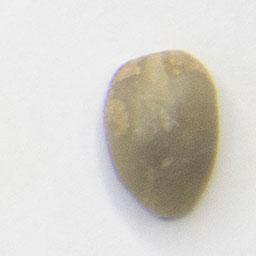longberry: (98, 44, 225, 224)
